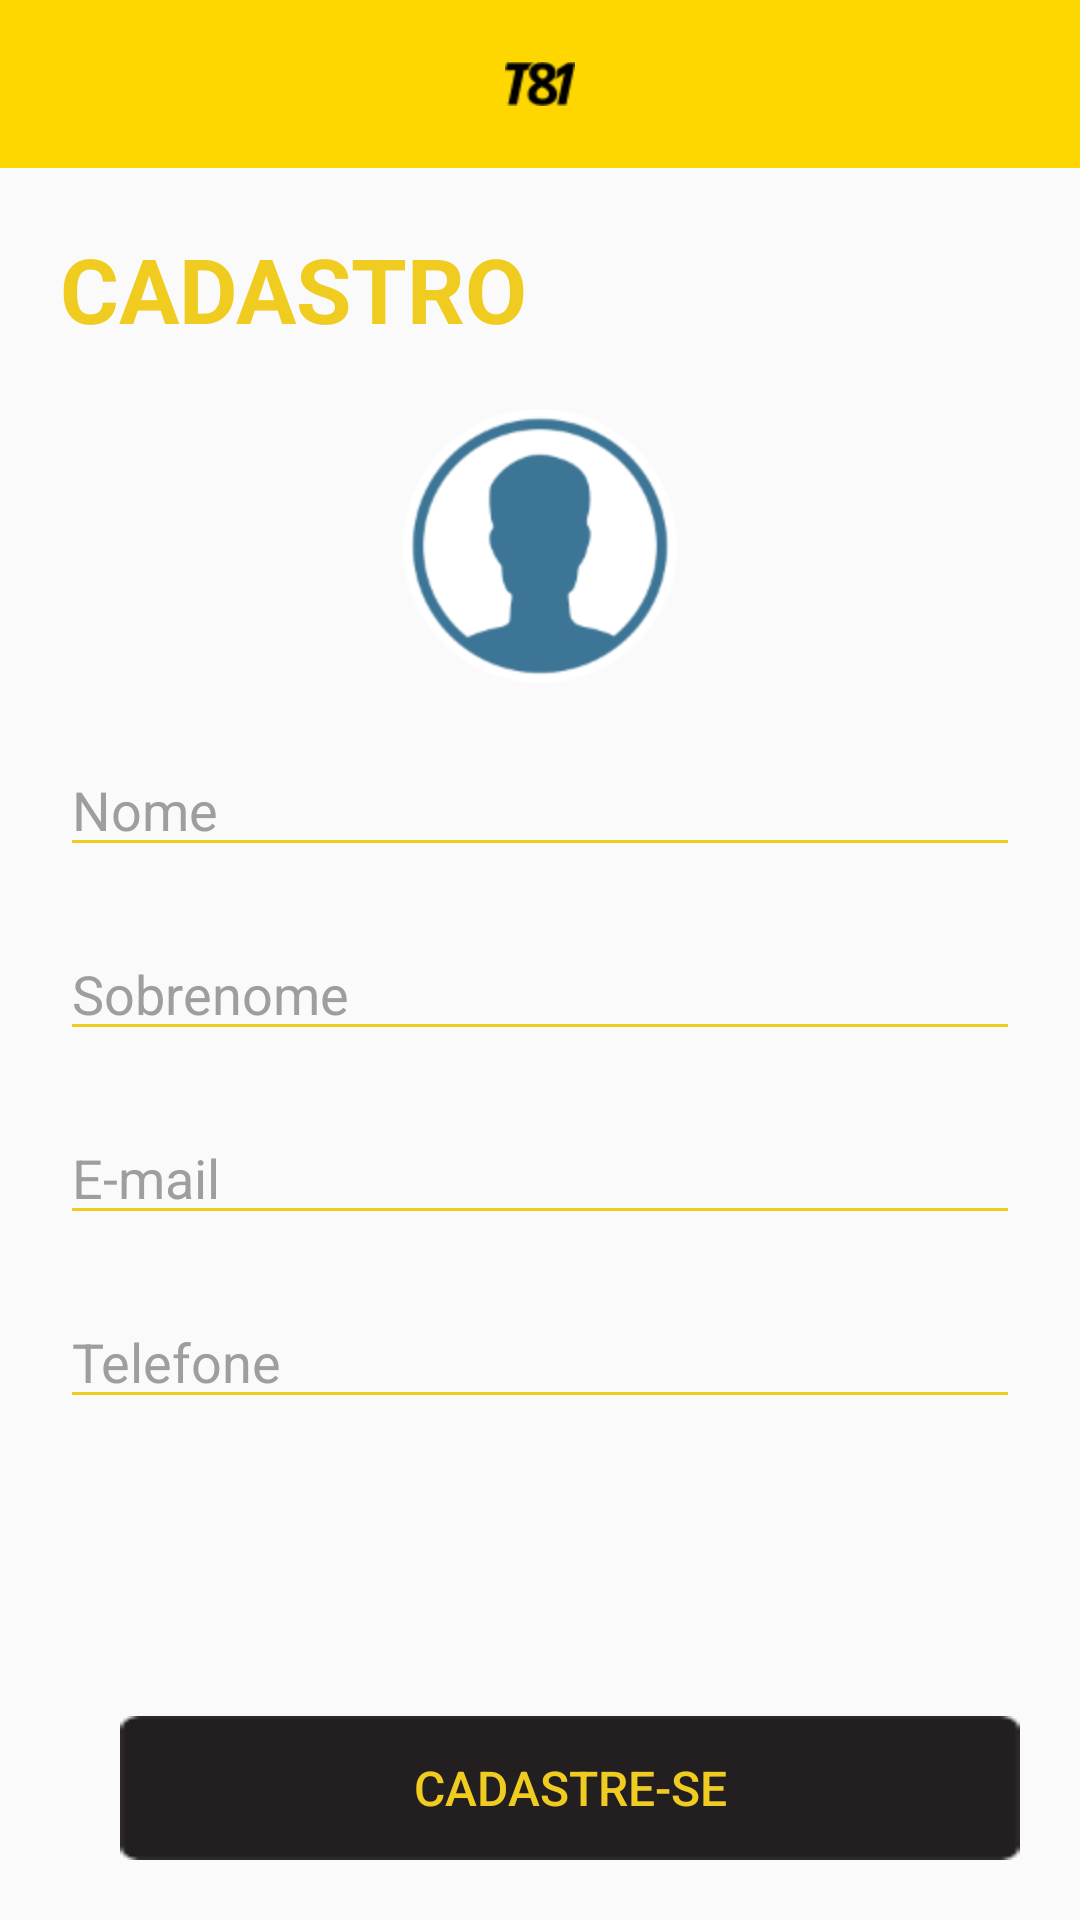

Icons on this 1080 x 1920 Android screen, each with its box as (x1, y1, x2, y2):
perfil: (412, 418, 668, 674)
